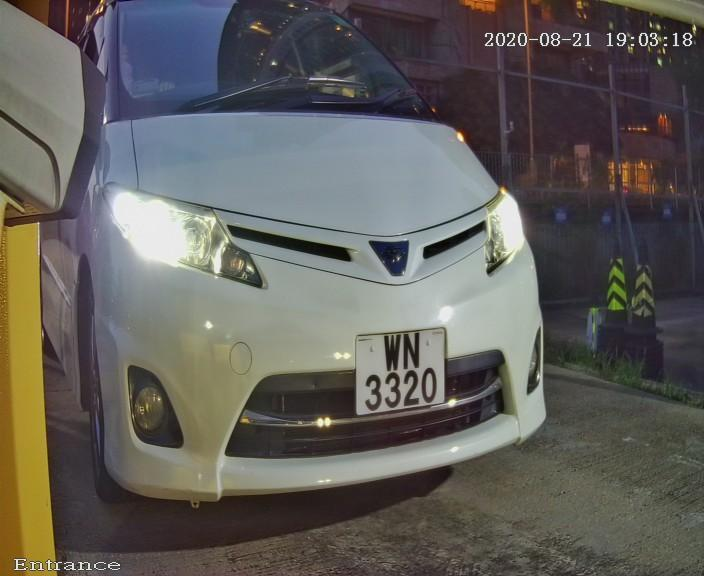License Plate: (349, 317, 459, 427)
